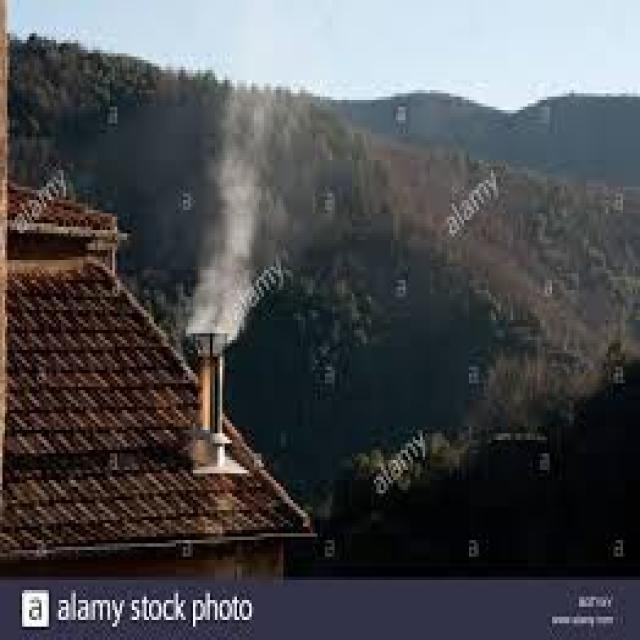Smoke: (185, 90, 291, 346)
